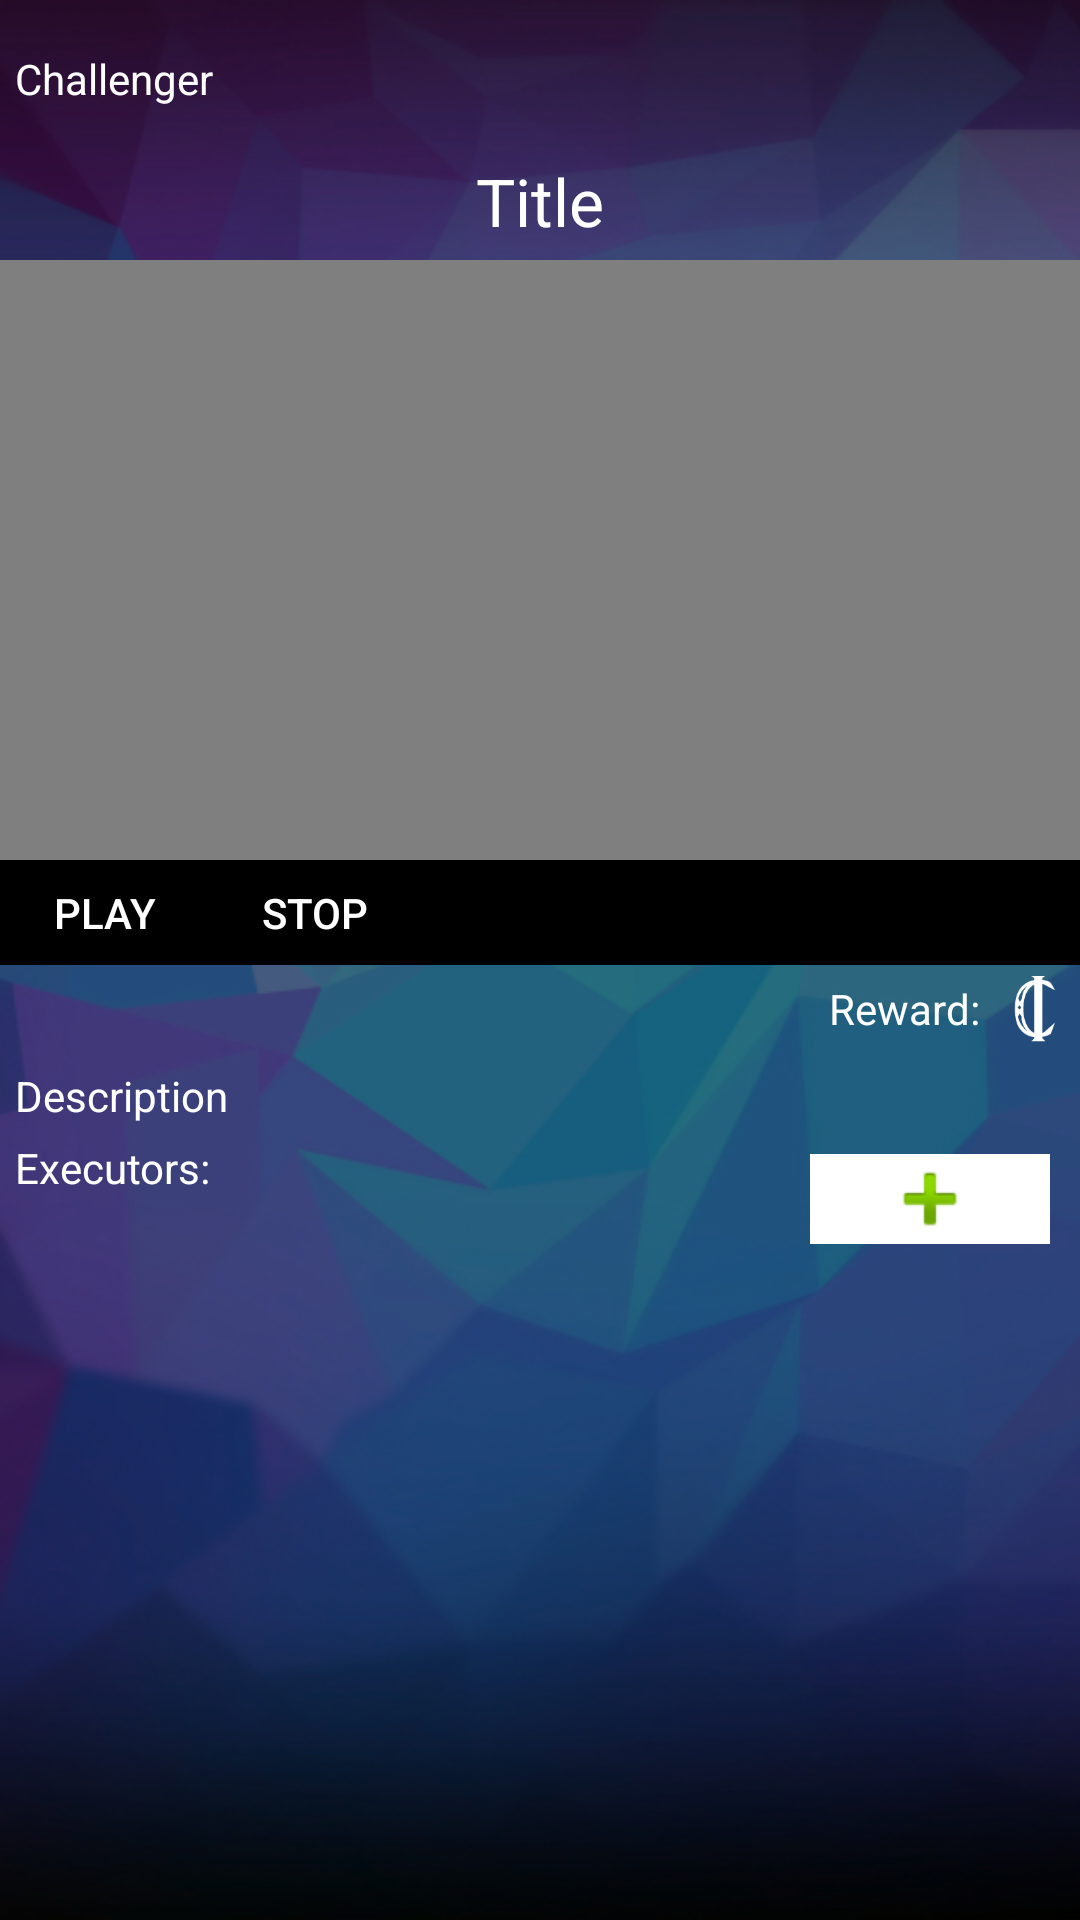

Icon click points for this 1080×1920 phone screenshot, format point (x, y):
pointswhite: point (1035, 1008)
